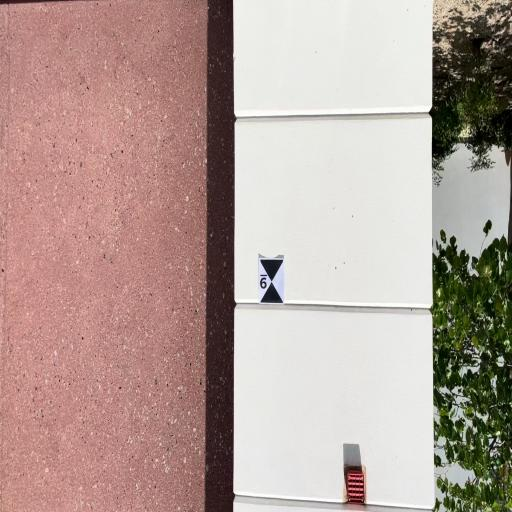target9: (256, 258, 285, 304)
